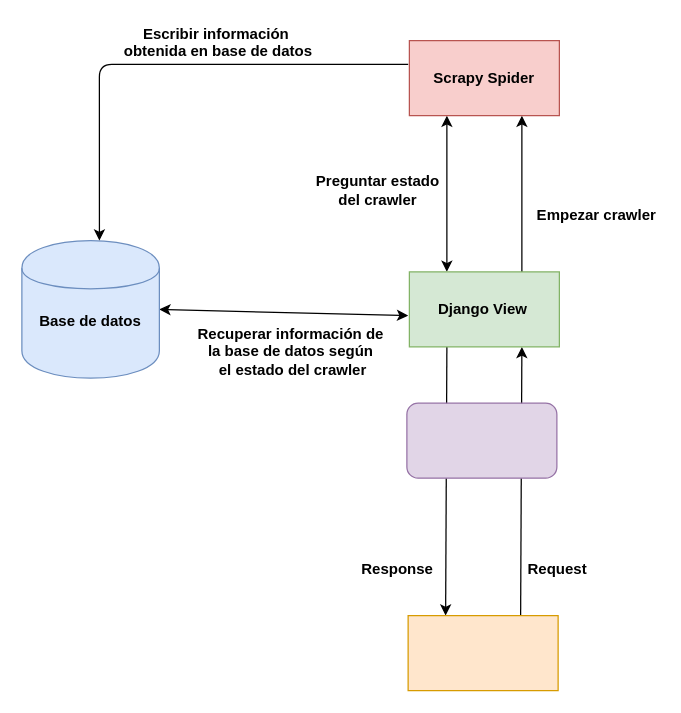
Image size: 681x713. Some labels were removed from this diagram. The shapes that lost their labels are listed below. From the top down, each one's box as (x1, y1, x2, y2) in pixels, then its label:
(406, 402, 557, 478): React frontend
(407, 614, 558, 691): Cliente
